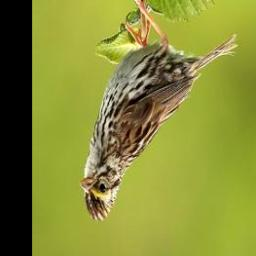Sparrow: (80, 0, 239, 229)
